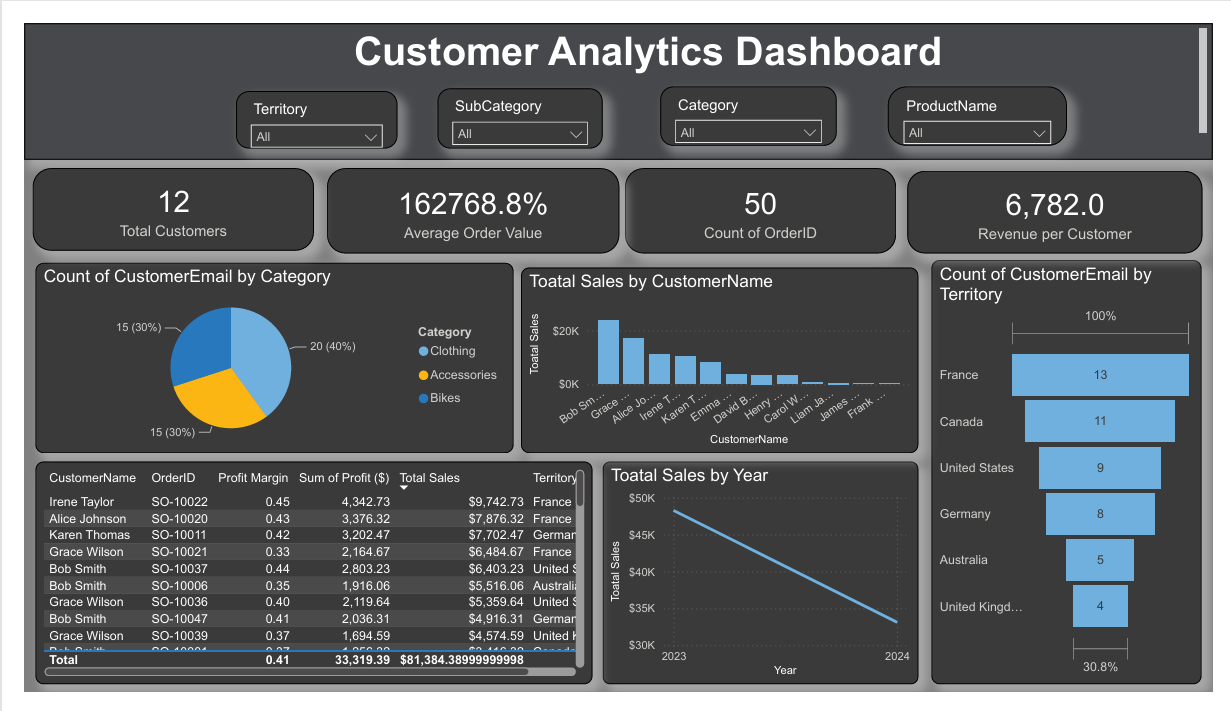

Layout of this report page (visuals, bound fields, positions):
{"tool":"powerbi","page":{"name":"Page 3","canvas":[1280,720],"ordinal":2},"visuals":[{"type":"textbox","box":[0,0,1280,146.7],"z":0},{"type":"card","fields":{"Values":["Count(Sales Data.OrderID)"]},"box":[646.6,156,292.2,92.4],"z":1000},{"type":"slicer","fields":{"Values":["Sales Data.Territory"]},"box":[228.3,73.3,173.3,61.7],"z":2000},{"type":"slicer","fields":{"Values":["Sales Data.SubCategory"]},"box":[445,70,178.3,65],"z":3000},{"type":"slicer","fields":{"Values":["Sales Data.Category"]},"box":[685,68.3,190,63.3],"z":4000},{"type":"card","fields":{"Values":["Sales Data.Average Order Value"]},"box":[325.6,156,315,92.4],"z":5000},{"type":"lineChart","fields":{"Category":["Sales Data.OrderDate.Variation.Date Hierarchy.Year","Sales Data.OrderDate.Variation.Date Hierarchy.Quarter","Sales Data.OrderDate.Variation.Date Hierarchy.Month","Sales Data.OrderDate.Variation.Date Hierarchy.Day"],"Y":["Sales Data.Toatal Sales"]},"box":[623.3,471.7,340,240],"z":6000},{"type":"funnel","fields":{"Category":["Sales Data.Territory"],"Y":["CountNonNull(Sales Data.CustomerEmail)"]},"box":[976.7,255,291.7,456.7],"z":7000},{"type":"pieChart","fields":{"Category":["Sales Data.Category"],"Y":["CountNonNull(Sales Data.CustomerEmail)"]},"box":[11.7,258.3,515,205],"z":8000},{"type":"columnChart","fields":{"Y":["Sales Data.Toatal Sales"],"Category":["Sales Data.CustomerName"]},"box":[535,263.3,428.3,200],"z":9000},{"type":"slicer","fields":{"Values":["Sales Data.ProductName"]},"box":[930,68.3,193.3,63.3],"z":10000},{"type":"card","fields":{"Values":["Sales Data.Total Customers"]},"box":[9.1,156,302.8,89.3],"z":11000},{"type":"card","fields":{"Values":["Sales Data.Revenue per Customer"]},"box":[950.9,159,318,89.3],"z":12000},{"type":"tableEx","fields":{"Values":["Sales Data.CustomerName","Sales Data.OrderID","Sales Data.Profit Margin","Sum(Sales Data.Profit ($))","Sales Data.Total Sales","Sales Data.Territory"]},"box":[11.7,471.7,600,240],"z":13000}]}

Visuals, with their boxes in screenshot pixels (x1, y1, x2, y2), scaled from the page's 1280x720 canvas onto the 1231x711 screenshot:
textbox: box=[0, 0, 1230, 145]
card - Count(Sales Data.OrderID): box=[622, 154, 903, 245]
slicer - Sales Data.Territory: box=[220, 72, 386, 133]
slicer - Sales Data.SubCategory: box=[428, 69, 599, 133]
slicer - Sales Data.Category: box=[659, 67, 842, 130]
card - Sales Data.Average Order Value: box=[313, 154, 616, 245]
lineChart - Sales Data.OrderDate.Variation.Date Hierarchy.Year x Sales Data.OrderDate.Variation.Date Hierarchy.Quarter: box=[599, 466, 926, 703]
funnel - Sales Data.Territory x CountNonNull(Sales Data.CustomerEmail): box=[939, 252, 1220, 703]
pieChart - Sales Data.Category x CountNonNull(Sales Data.CustomerEmail): box=[11, 255, 507, 458]
columnChart - Sales Data.Toatal Sales x Sales Data.CustomerName: box=[515, 260, 926, 458]
slicer - Sales Data.ProductName: box=[894, 67, 1080, 130]
card - Sales Data.Total Customers: box=[9, 154, 300, 242]
card - Sales Data.Revenue per Customer: box=[914, 157, 1220, 245]
tableEx - Sales Data.CustomerName x Sales Data.OrderID: box=[11, 466, 588, 703]
